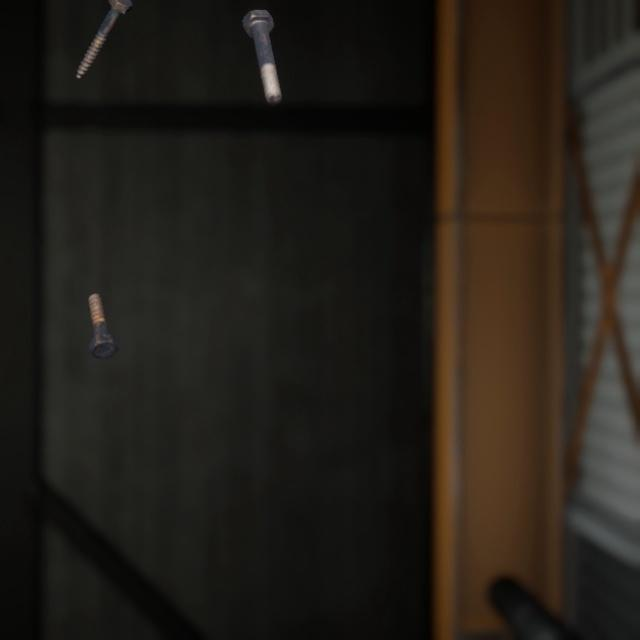bolt: (237, 0, 286, 98), (71, 0, 135, 74), (83, 271, 123, 345)
